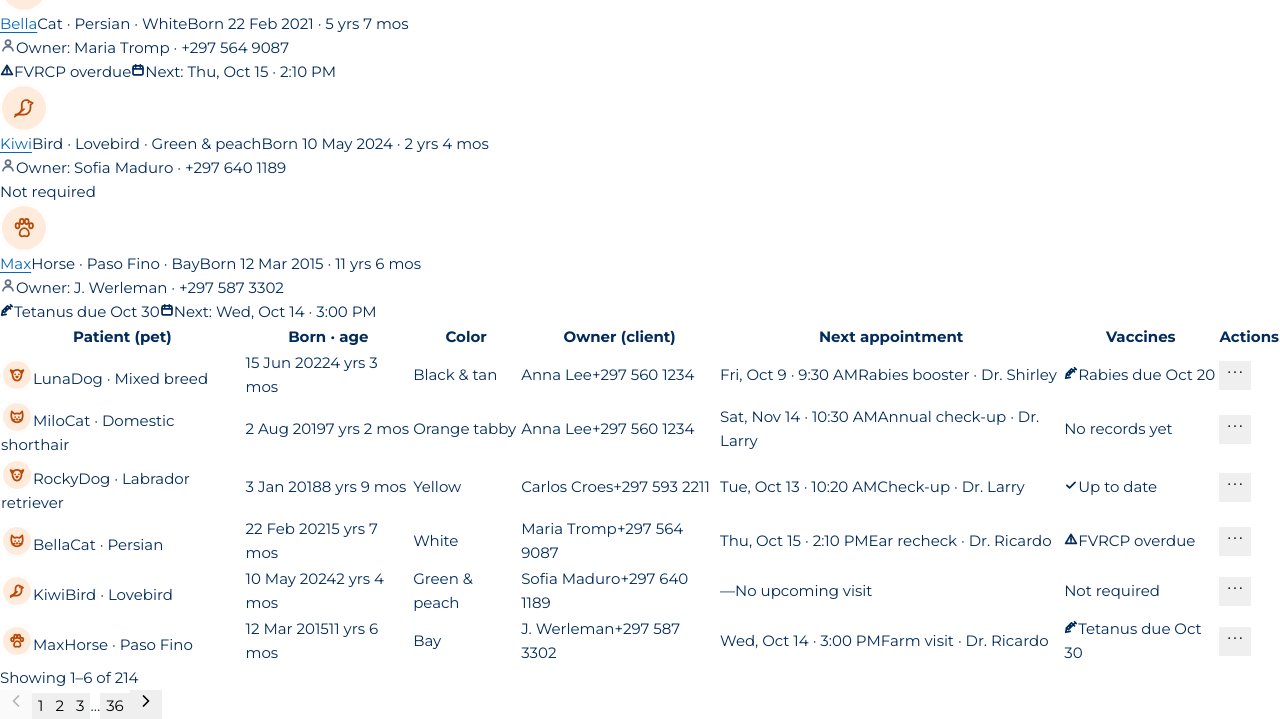
Test case: StaffPatients › asks to confirm before archiving a patient from the menu
The image size is (1280, 719).
(page scrolled)
Click the button named "Actions for Luna": (1235, 375) [1219,360,1251,390]
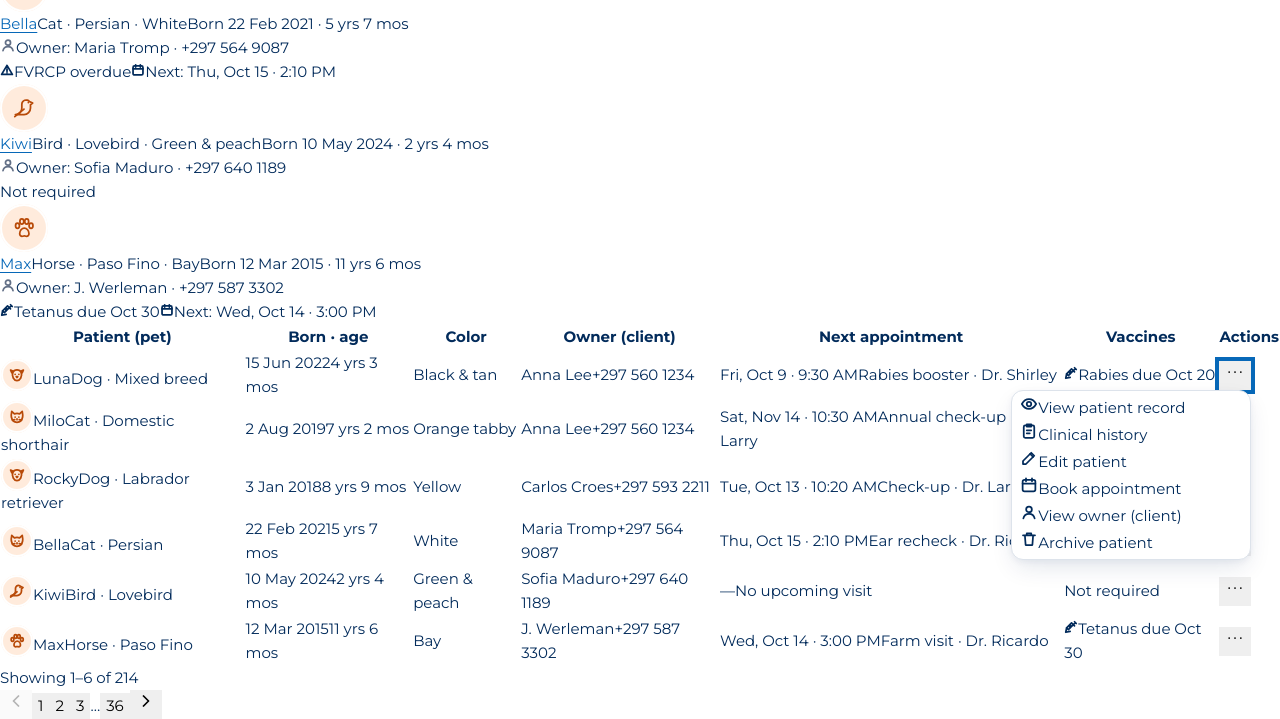
Click the menu item "Archive patient": (1131, 542) [1020,530,1242,554]
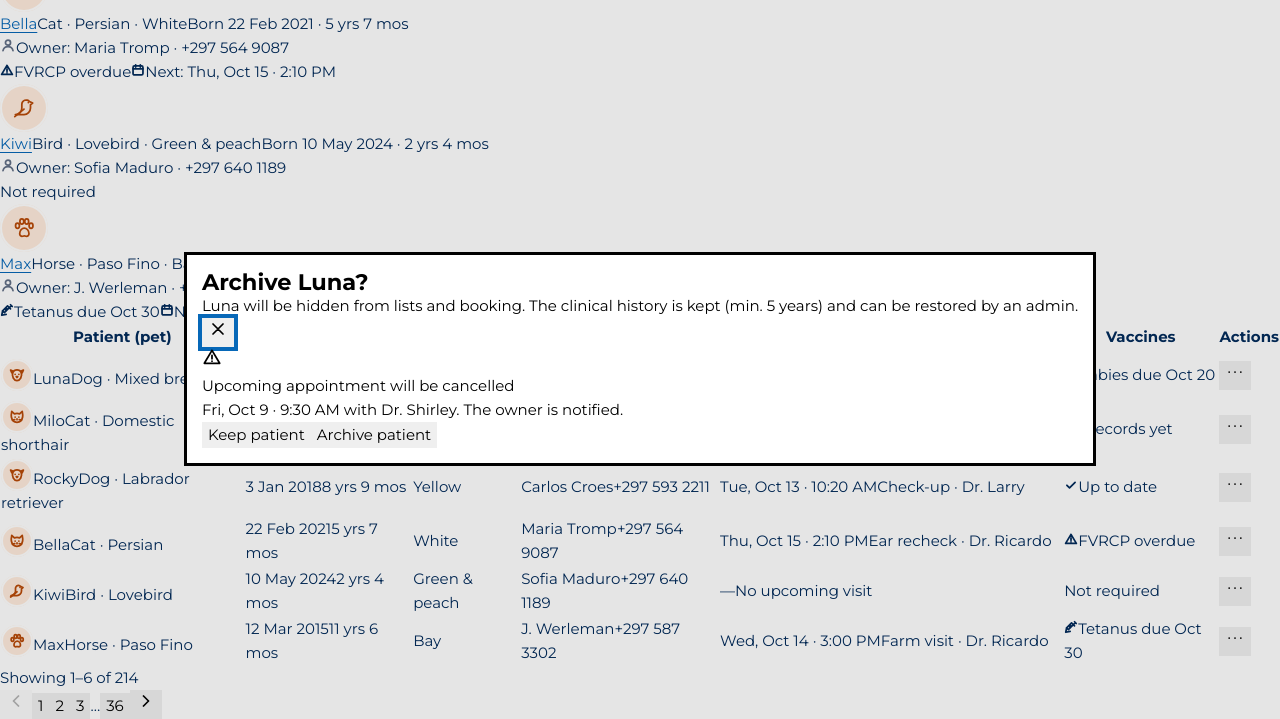
Expected: the dialog "Archive Luna?" is shown, [184,252,1096,466]
